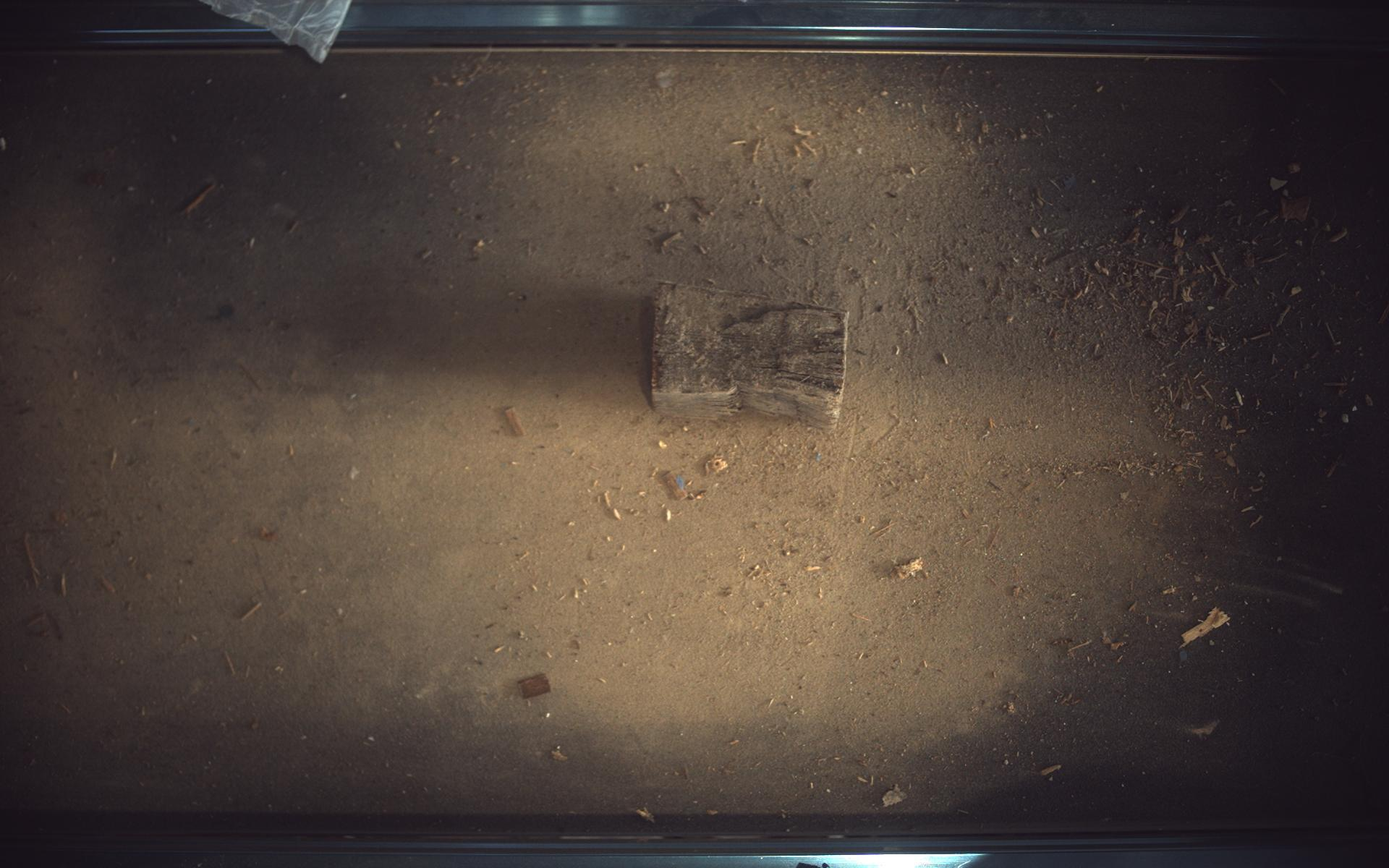wood: (652, 284, 849, 428)
